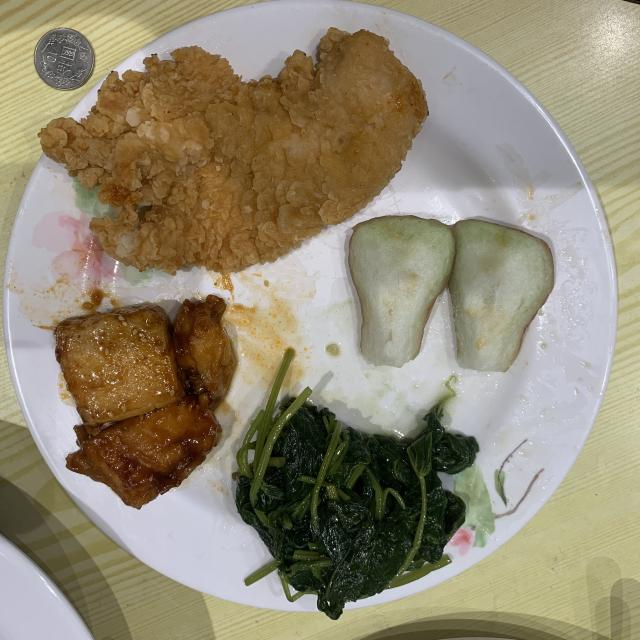coin: (34, 28, 95, 90)
creamy tofu: (55, 295, 236, 509)
fried chicken cutlet: (40, 29, 428, 274)
sweet potato leaves: (232, 349, 479, 619)
